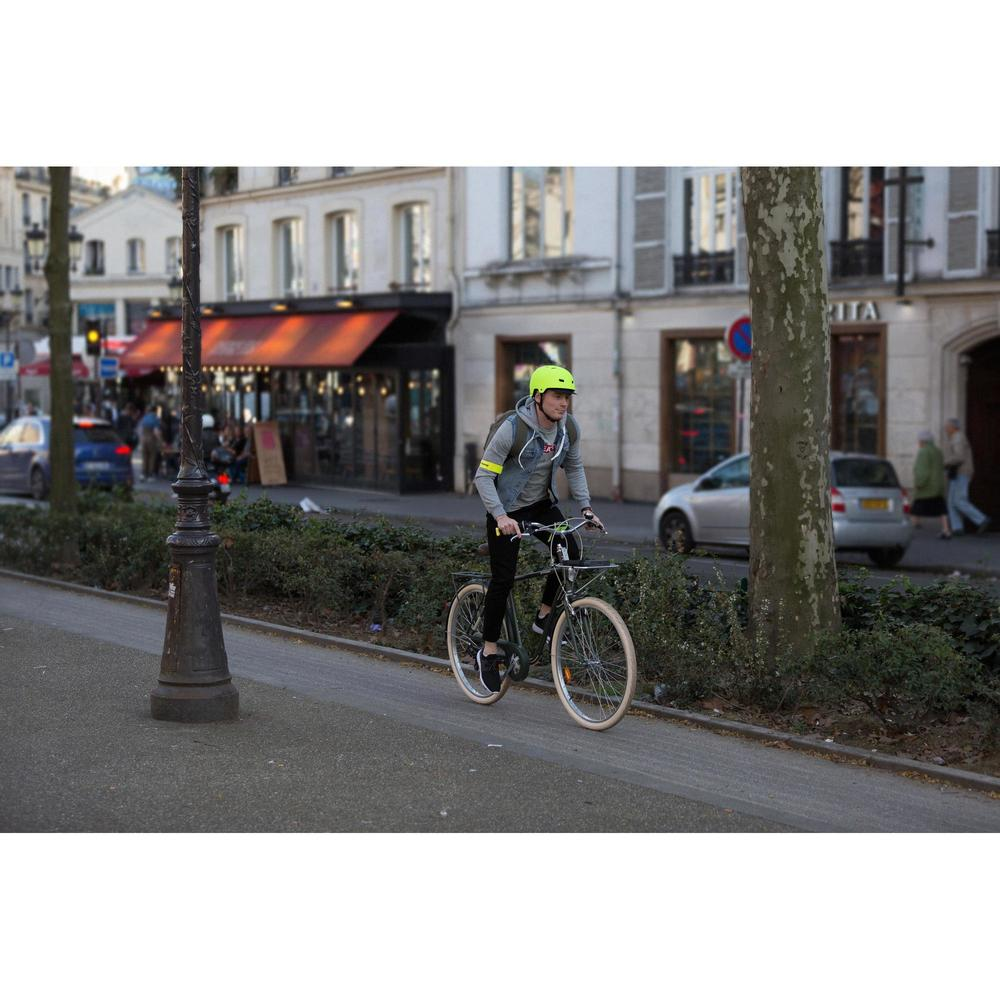UrbanBike: (446, 475, 630, 738)
